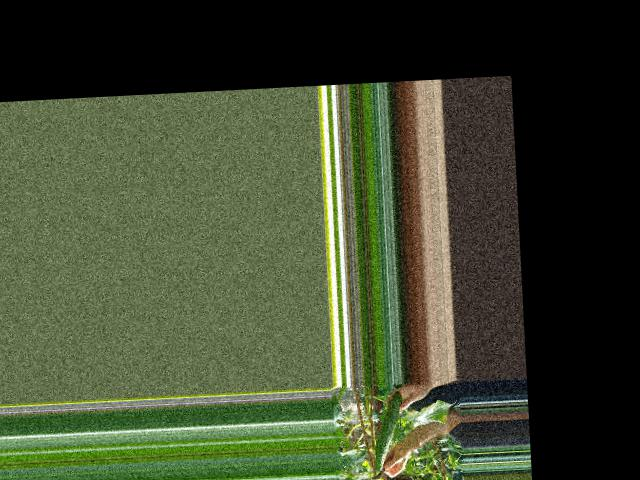cucumber: (371, 391, 406, 470)
